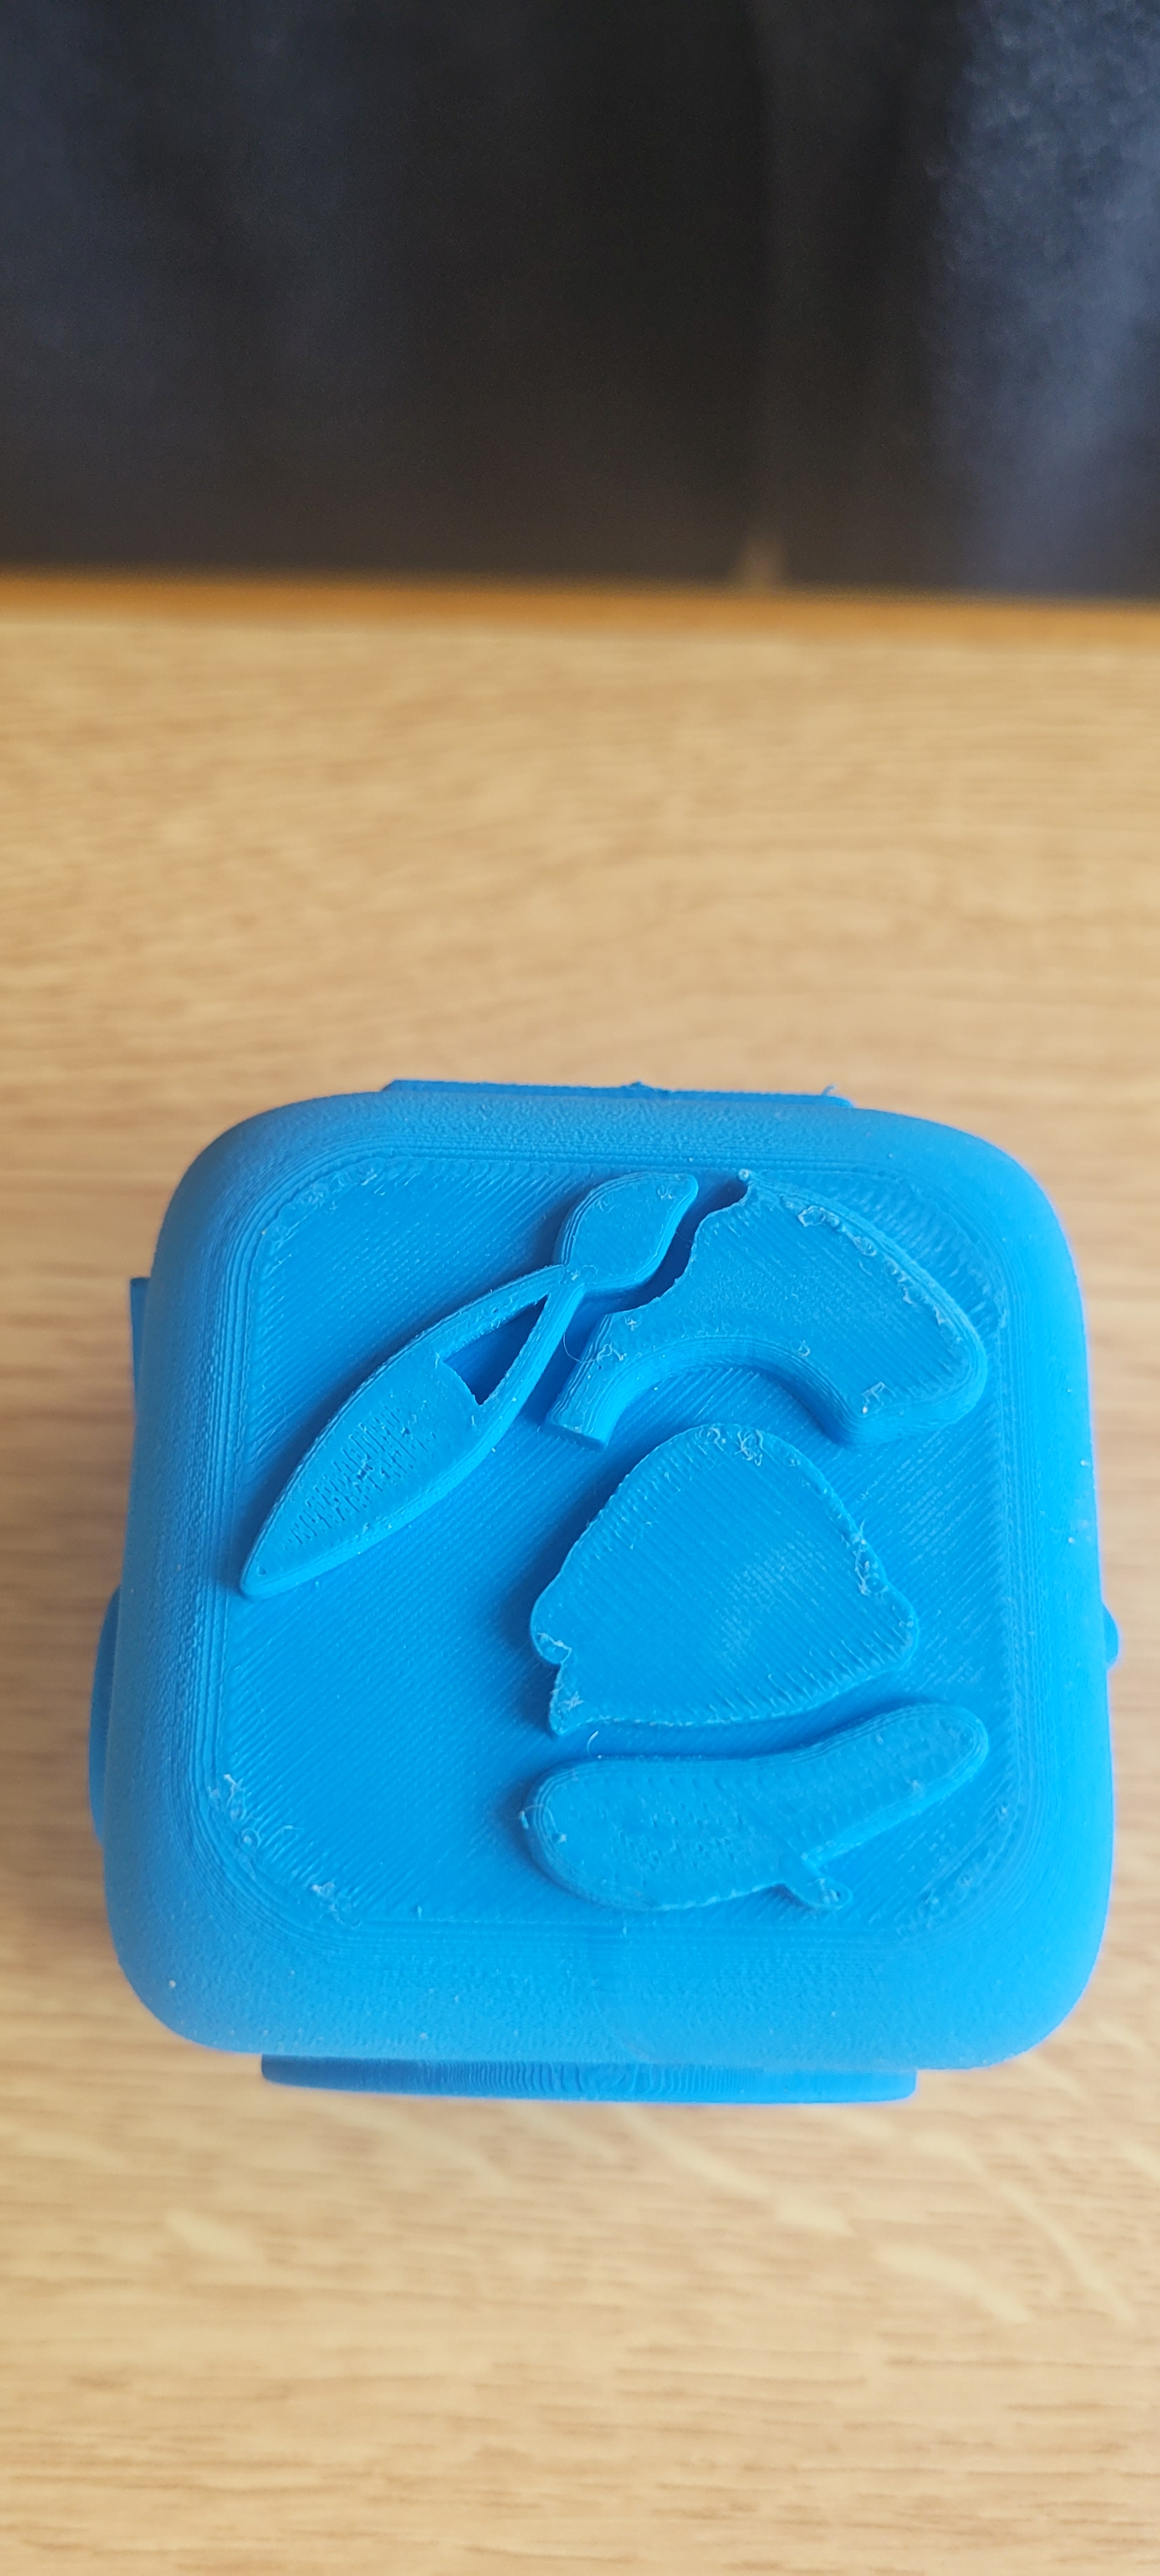Artist_Info: (144, 1037, 1126, 2106)
